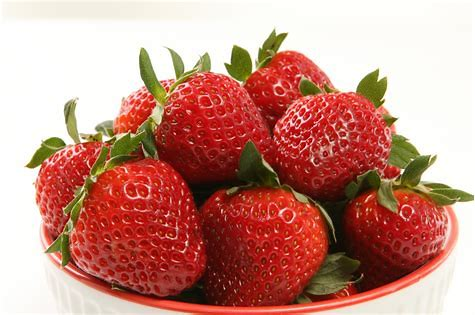strawberry: (64, 153, 214, 302), (195, 184, 331, 315), (151, 70, 278, 190), (269, 89, 397, 202), (341, 181, 452, 294), (33, 135, 122, 253), (243, 47, 343, 129)
